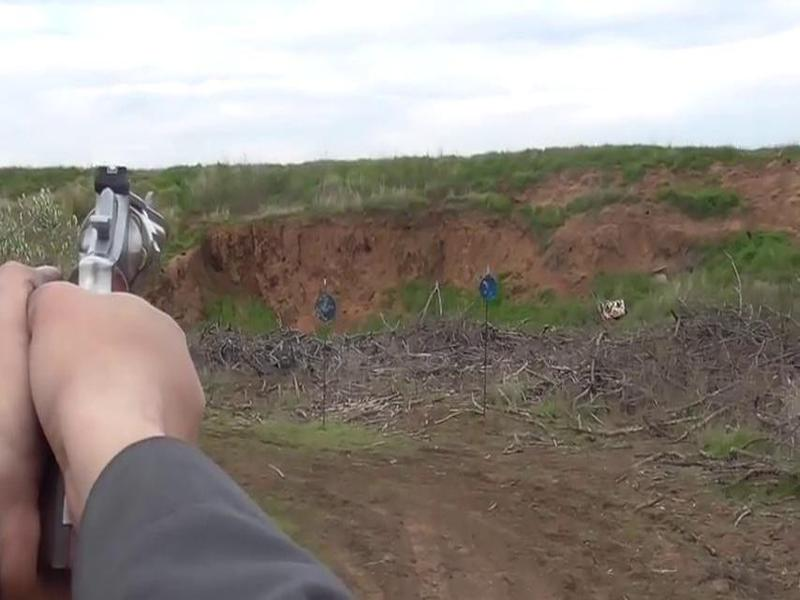Revolver: (67, 155, 183, 324)
